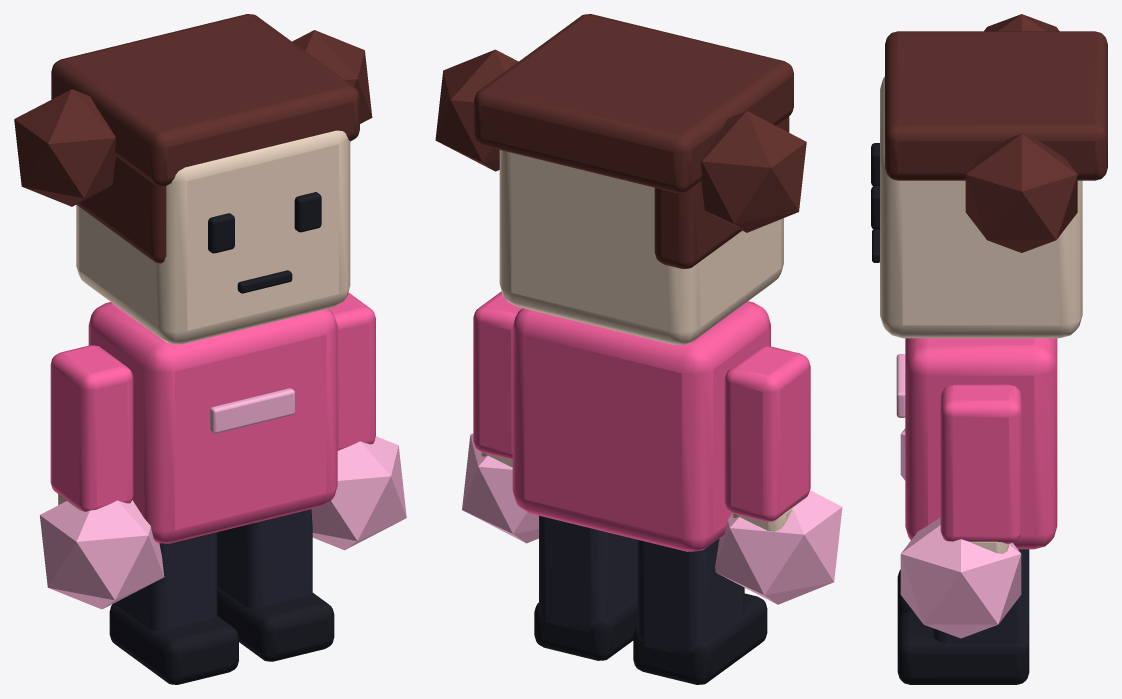
The model's file is pochita.glb.
3 views of the same model, side by side, from view 1: azimuth 30°, elevation 25°; view 2: azimuth 150°, elevation 25°; view 3: azimuth 270°, elevation 25° (orthographic). The views are drawn at different scales.
Visible parts, largest first — view 1: Jacket, Face, Hair, Arm_L_sleeve, Pompom, Ponytail, Leg_R_trouser, Pompom.001, Leg_L_shoe, Leg_L_trouser, Leg_R_shoe, Arm_R_sleeve (+6 smaller); view 2: Jacket, Hair, Face, Arm_L_sleeve, Ponytail, Leg_L_trouser, Pompom, Leg_R_trouser, Arm_R_sleeve, Leg_L_shoe, HairSide, Ponytail.001 (+2 smaller); view 3: Hair, Face, Jacket, Arm_R_sleeve, Ponytail.001, Pompom.001, Leg_R_shoe, Leg_R_trouser, Ponytail, ChestBadge, Eye.001, Eye.
Part boxes in pixels (x1,y1,x2,y2): Jacket: (88, 302, 337, 543); Face: (76, 130, 350, 344); Hair: (51, 14, 359, 186); Arm_L_sleeve: (50, 345, 133, 511); Pompom: (39, 500, 164, 609); Ponytail: (14, 89, 116, 206); Leg_R_trouser: (217, 509, 312, 607); Pompom.001: (311, 436, 406, 550); Leg_L_shoe: (109, 603, 238, 684); Leg_L_trouser: (114, 532, 217, 630); Leg_R_shoe: (217, 586, 334, 661); Arm_R_sleeve: (328, 292, 375, 450); Jacket: (512, 301, 770, 551); Hair: (474, 14, 793, 192); Face: (499, 150, 783, 345); Arm_L_sleeve: (724, 346, 810, 521); Ponytail: (701, 111, 806, 232); Leg_L_trouser: (637, 538, 744, 656); Pompom: (715, 490, 842, 604); Leg_R_trouser: (539, 515, 637, 632); Arm_R_sleeve: (473, 291, 522, 459); Leg_L_shoe: (633, 593, 767, 684); HairSide: (654, 116, 789, 268); Ponytail.001: (435, 49, 518, 171); Hair: (885, 31, 1107, 180); Face: (880, 76, 1082, 338); Jacket: (905, 338, 1057, 549); Arm_R_sleeve: (940, 384, 1021, 543); Ponytail.001: (965, 134, 1077, 252); Pompom.001: (900, 517, 1021, 638); Leg_R_shoe: (897, 611, 1029, 684); Leg_R_trouser: (933, 549, 1029, 646); Ponytail: (984, 14, 1059, 31); ChestBadge: (896, 354, 905, 417); Eye.001: (871, 186, 879, 229); Eye: (871, 143, 879, 186).
Size of the model in its own units: 0.8104 by 1.25 by 0.4675.
